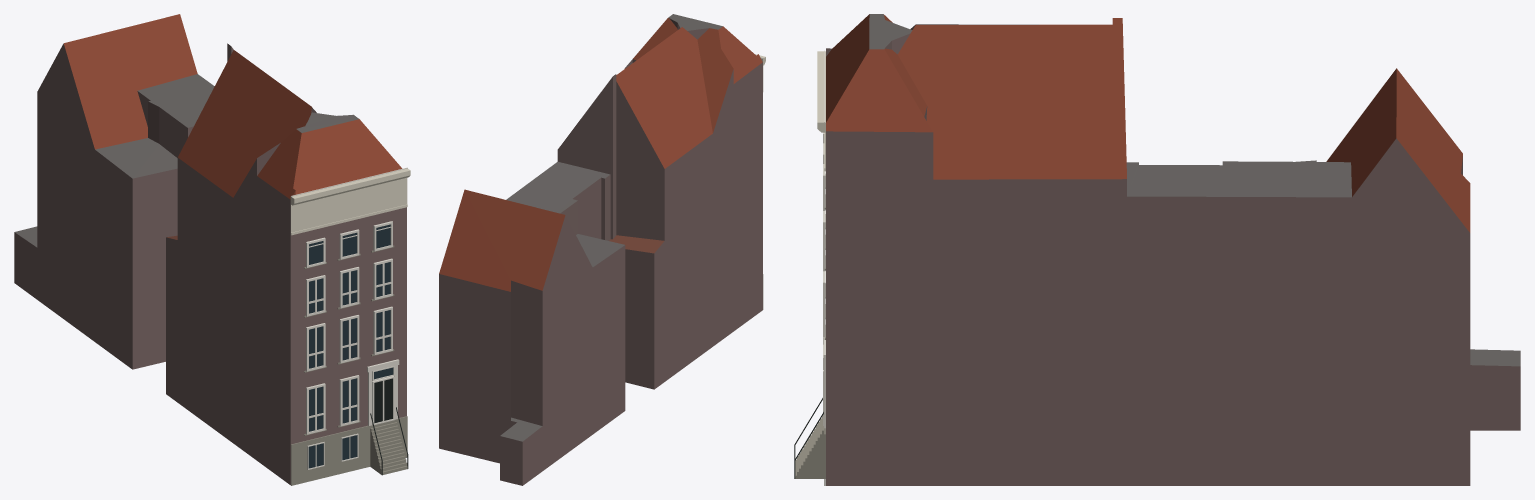
The picture shows the model from 3 angles, left to right: view 1: azimuth 30°, elevation 25°; view 2: azimuth 150°, elevation 25°; view 3: azimuth 270°, elevation 25°; orthographic projection. The views are drawn at different scales.
Parts seen in each view (by area): view 1: spec-0363100012167896; view 2: spec-0363100012167896; view 3: spec-0363100012167896.
Boxes of the visible parts, <box> form: spec-0363100012167896: <box>14,14,410,485</box>; spec-0363100012167896: <box>439,14,765,485</box>; spec-0363100012167896: <box>794,14,1520,485</box>.
Size of the model in its own units: 7.57 by 21.28 by 32.56.
